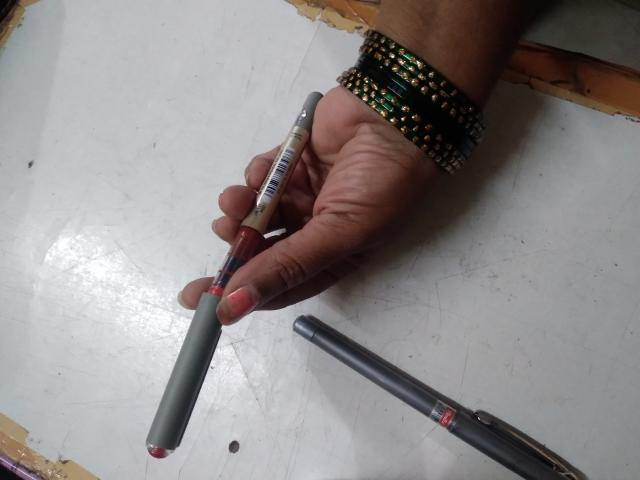PEN: (136, 74, 312, 457), (290, 299, 640, 480)
